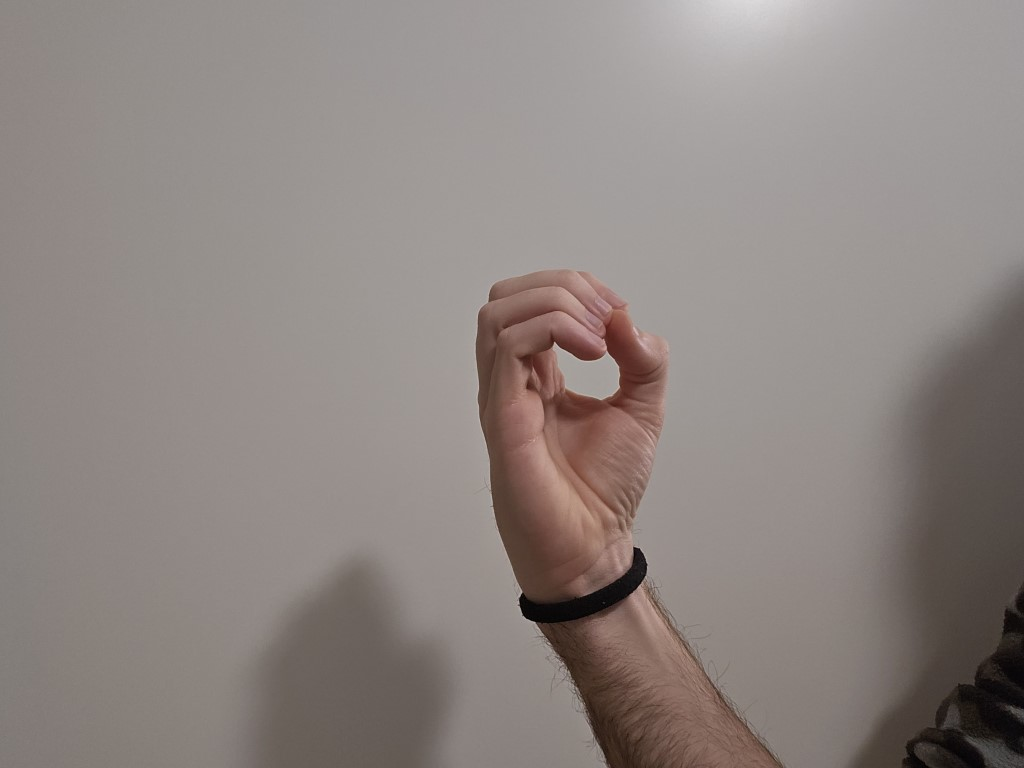o: (441, 254, 692, 584)
